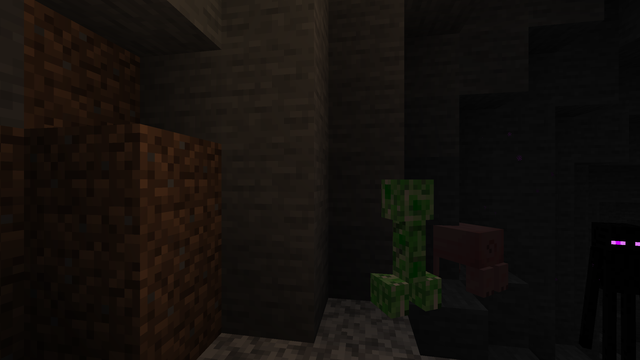cochons: (444, 220, 504, 293)
creepers: (379, 173, 434, 318)
endermens: (585, 217, 638, 351)
